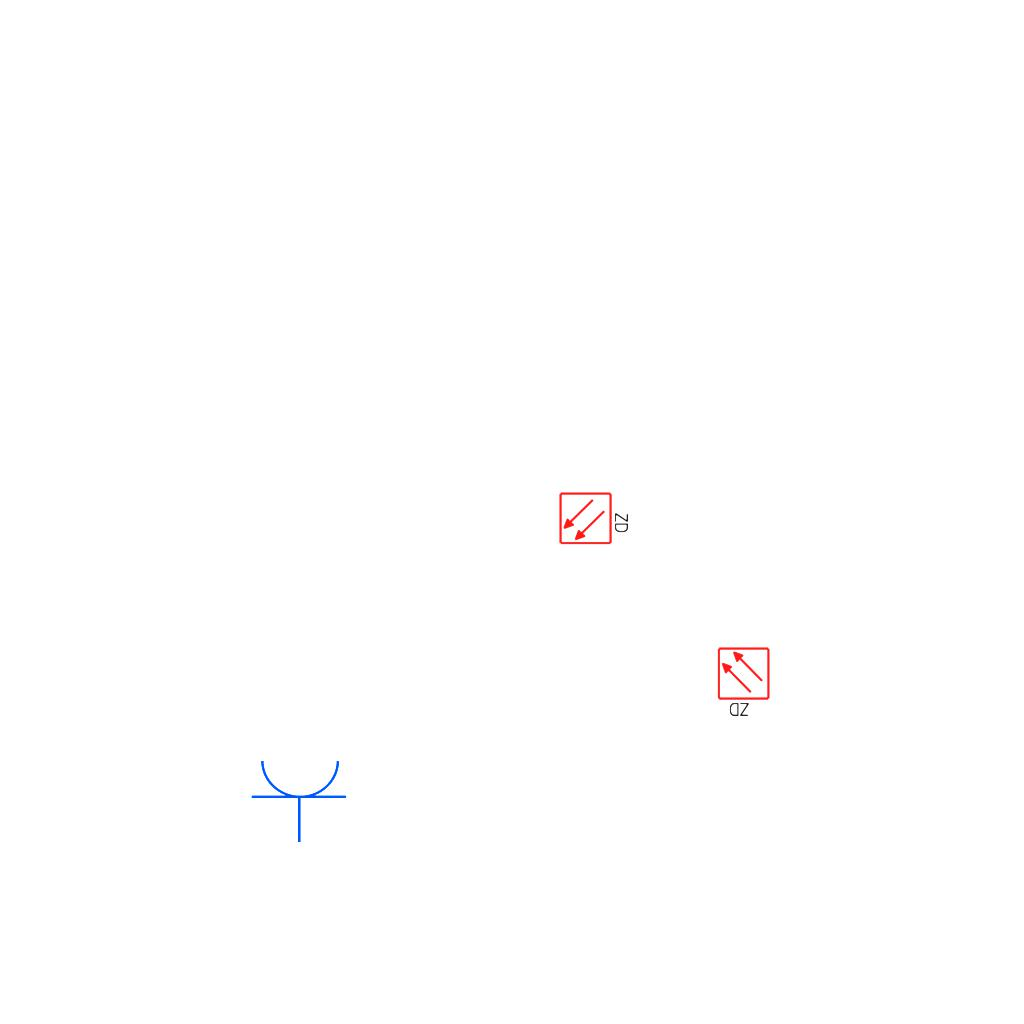Schukosteckdose_einfach: (250, 756, 350, 843)
ZD_Melder_in_Zwischendecke_mit_Revisionsoeffnung_mind_40_x_40_cm: (558, 489, 632, 546), (716, 646, 773, 720)
